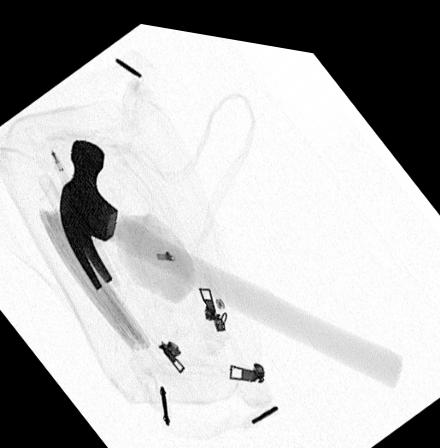Hammer: (58, 136, 403, 376)
